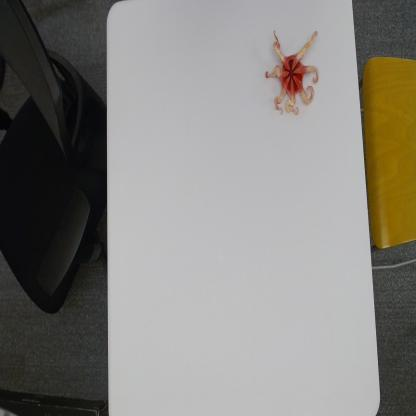Octopus: (264, 27, 322, 118)
